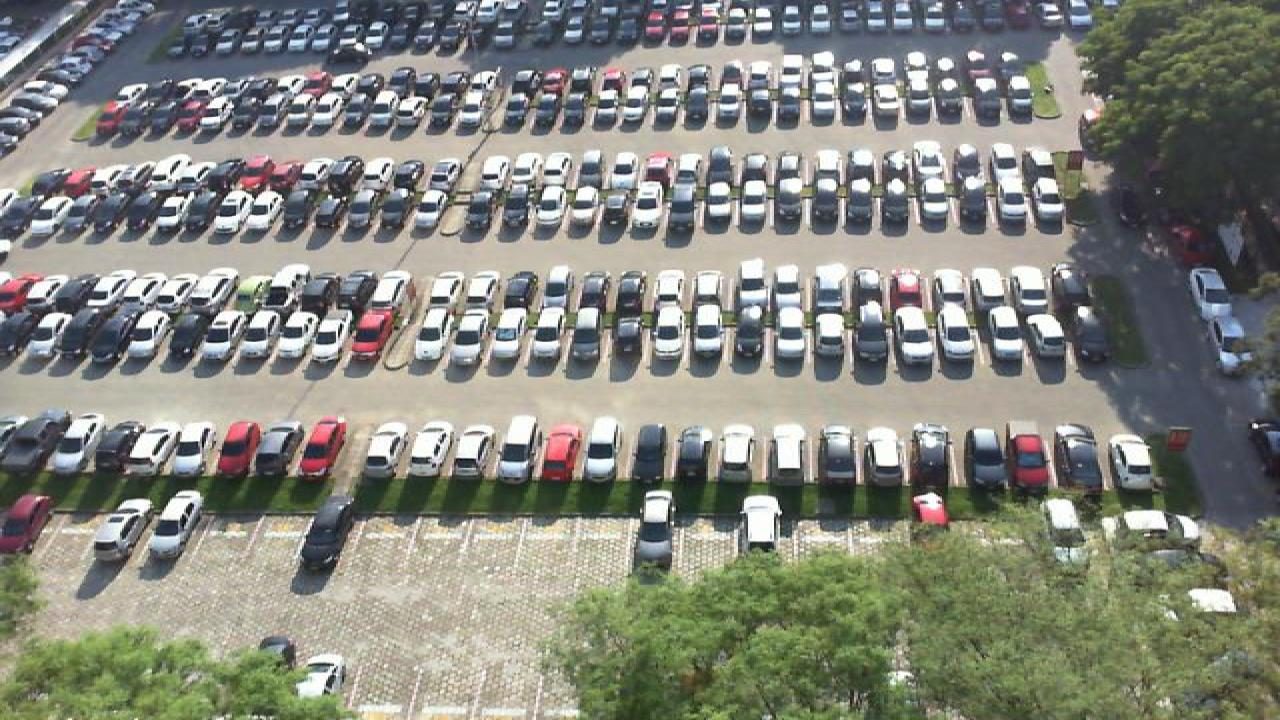Car: (0, 411, 74, 472), (300, 493, 354, 575), (1192, 266, 1254, 336), (146, 489, 204, 558), (632, 490, 678, 564), (90, 499, 146, 557), (0, 492, 52, 554), (1054, 422, 1102, 489), (736, 495, 784, 559), (58, 412, 108, 472), (94, 420, 150, 472), (300, 415, 348, 475), (496, 414, 540, 479), (910, 421, 954, 485), (1110, 433, 1158, 491), (964, 425, 1008, 487), (362, 420, 408, 478), (36, 309, 88, 359), (1028, 309, 1072, 368), (254, 423, 302, 476), (408, 422, 454, 477), (452, 422, 496, 479), (538, 423, 582, 480), (1010, 430, 1052, 488), (936, 306, 978, 364), (768, 422, 808, 482), (862, 426, 902, 486), (894, 306, 934, 366), (986, 306, 1026, 366), (136, 425, 182, 477), (216, 421, 260, 475), (718, 424, 758, 483), (78, 309, 124, 360), (172, 425, 216, 478), (674, 426, 714, 484), (818, 423, 856, 484), (1038, 498, 1088, 544), (198, 309, 242, 360), (584, 422, 622, 481), (854, 307, 892, 366), (632, 423, 672, 479), (772, 306, 810, 364), (118, 311, 162, 361), (490, 305, 528, 362), (568, 306, 606, 363), (650, 305, 688, 362), (732, 306, 770, 363), (812, 305, 848, 364), (240, 310, 282, 360), (414, 309, 454, 361), (158, 310, 200, 359), (352, 308, 394, 357), (450, 310, 488, 364), (610, 307, 648, 361), (692, 305, 728, 362), (530, 306, 566, 362), (1116, 507, 1184, 536), (280, 310, 318, 360), (314, 308, 352, 357), (910, 492, 950, 532)
